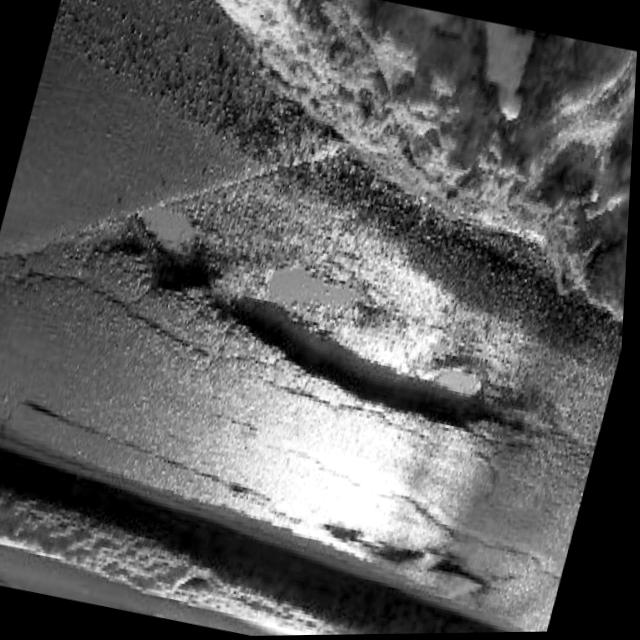pathole: (35, 169, 590, 485), (286, 504, 491, 577)
